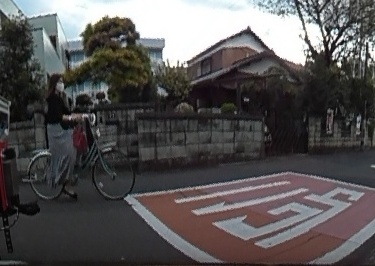person: (43, 67, 83, 203)
